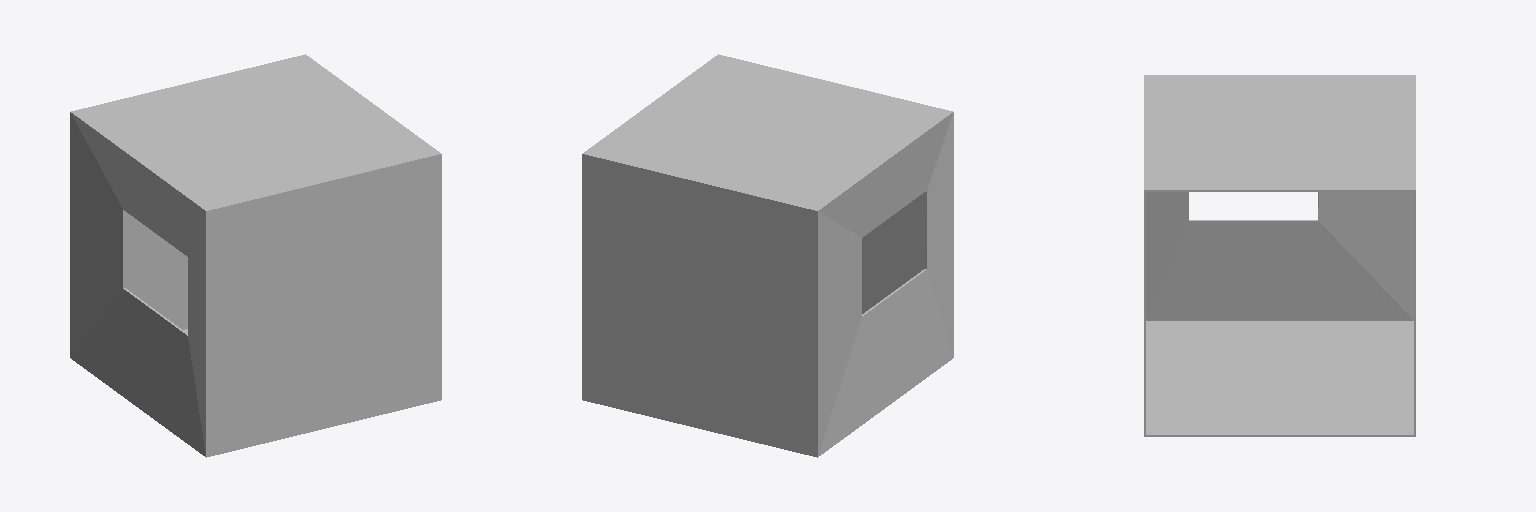
Rendered from room.obj.
The picture shows the model from 3 angles: view 1: azimuth 30°, elevation 25°; view 2: azimuth 150°, elevation 25°; view 3: azimuth 270°, elevation 25°; orthographic projection.
Parts seen in each view (by area): view 1: Cube; view 2: Cube; view 3: Cube.
Boxes of the visible parts, x1=… form: Cube: x1=70, y1=54, x2=441, y2=457; Cube: x1=582, y1=54, x2=953, y2=457; Cube: x1=1144, y1=75, x2=1415, y2=436.
Bounding box in the file's own units: 1 × 1 × 1.